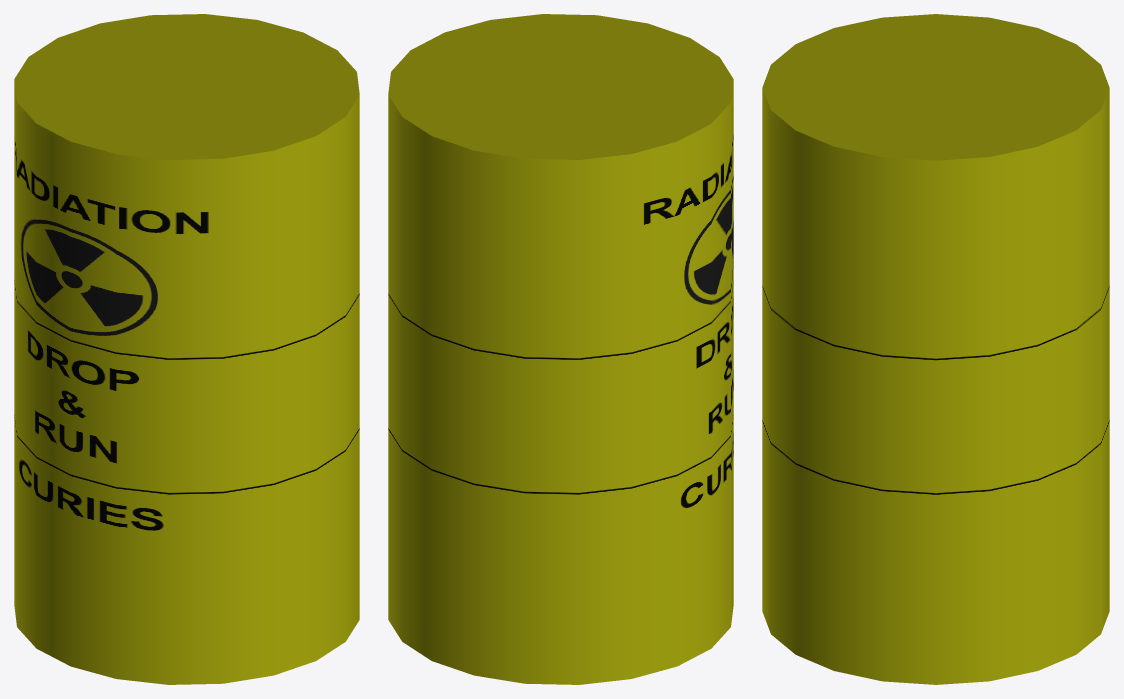
Rendered from radiation (1).fbx.
3 views of the same model, side by side, from view 1: azimuth 30°, elevation 25°; view 2: azimuth 150°, elevation 25°; view 3: azimuth 270°, elevation 25° (orthographic).
Parts seen in each view (by area): view 1: pCylinder1; view 2: pCylinder1; view 3: pCylinder1.
Part boxes in pixels (x1,y1,x2,y2): pCylinder1: (14, 14, 359, 684); pCylinder1: (388, 14, 733, 684); pCylinder1: (762, 14, 1109, 684).
Size of the model in its own units: 6 by 10 by 6.
2 materials, 1 textured.
